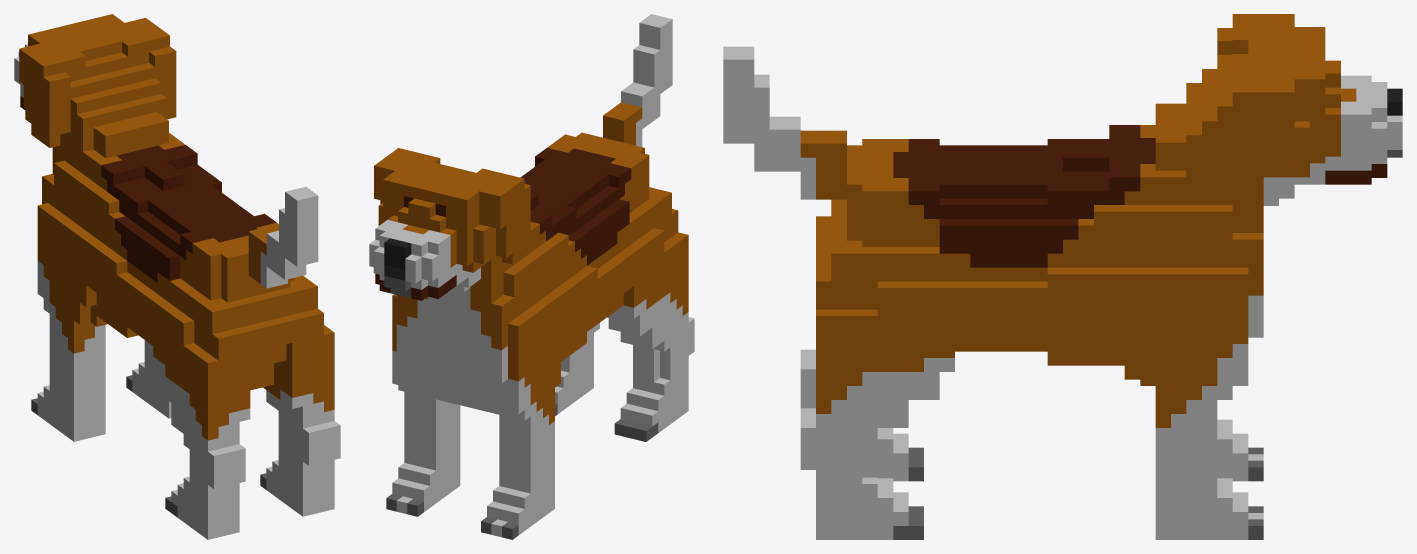
File: beagle.glb
3 renders of one model, left to right at view 1: azimuth 30°, elevation 25°; view 2: azimuth 150°, elevation 25°; view 3: azimuth 270°, elevation 25°, orthographic. The views are drawn at different scales.
Size of the model in its own units: 0.24 by 0.64 by 0.88.
